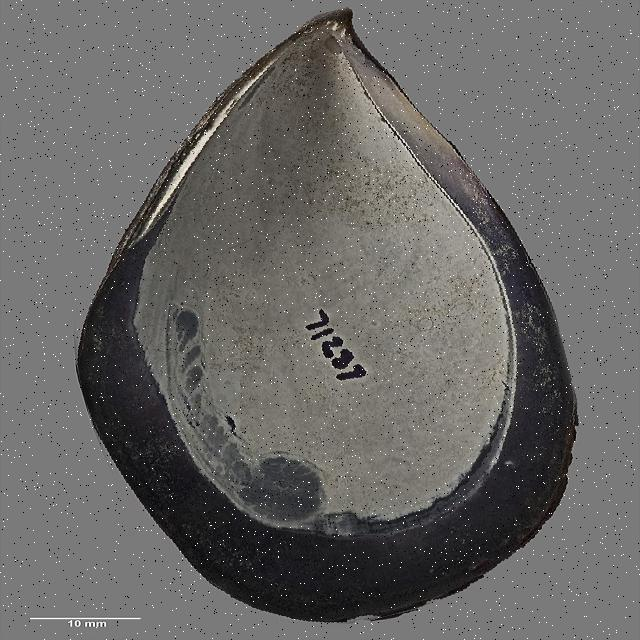Mytilus_galloprovincialis: (41, 0, 583, 640)
